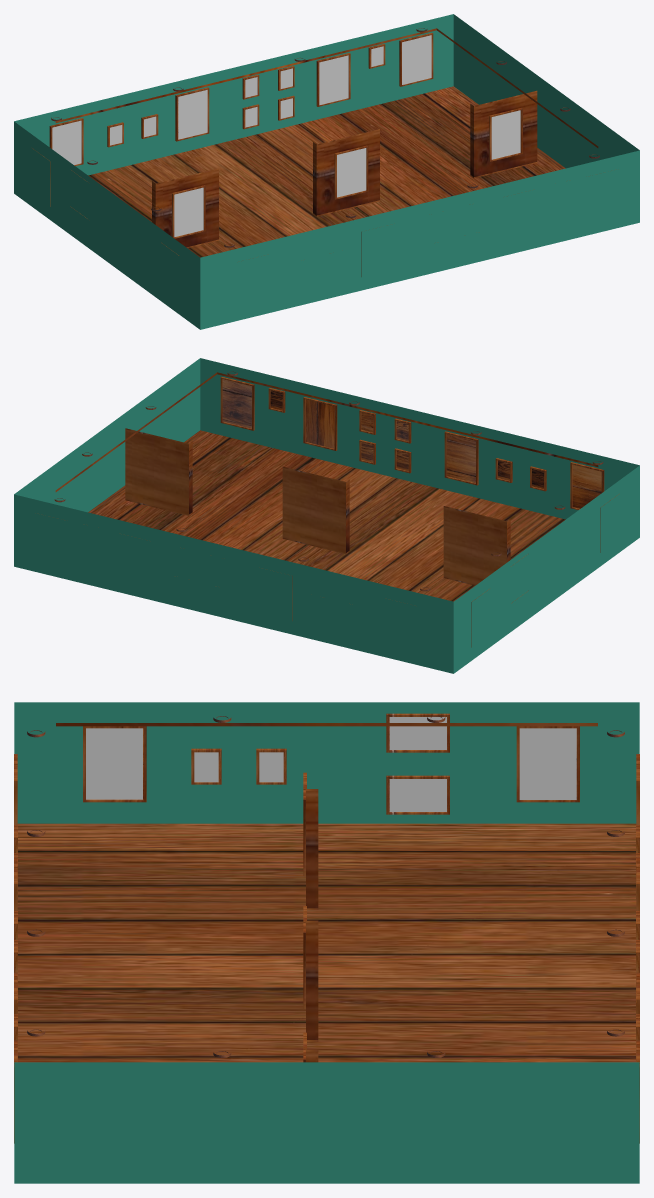
3 views of the same model, one above another, from view 1: azimuth 30°, elevation 25°; view 2: azimuth 150°, elevation 25°; view 3: azimuth 270°, elevation 25° (orthographic). The views are drawn at different scales.
Visible parts, largest first — view 1: Parede, PLANE_003, PLANE_001, PLANE_008, PLANE_031, PLANE_029, PLANE_030, PLANE_011; view 2: Parede; view 3: Parede, PLANE_012, PLANE_017, PLANE_014, PLANE_013, Lights, PLANE_015, PLANE_016.
Part boxes in pixels (bbox=[...]): Parede: bbox=[14, 14, 639, 329]; PLANE_003: bbox=[319, 55, 348, 105]; PLANE_001: bbox=[402, 35, 431, 84]; PLANE_008: bbox=[178, 90, 207, 139]; PLANE_031: bbox=[174, 187, 203, 236]; PLANE_029: bbox=[491, 110, 520, 159]; PLANE_030: bbox=[337, 148, 366, 197]; PLANE_011: bbox=[52, 120, 81, 164]; Parede: bbox=[14, 358, 639, 673]; Parede: bbox=[14, 702, 639, 1183]; PLANE_012: bbox=[519, 728, 576, 799]; PLANE_017: bbox=[86, 728, 142, 799]; PLANE_014: bbox=[389, 779, 446, 811]; PLANE_013: bbox=[389, 717, 446, 749]; Lights: bbox=[27, 716, 624, 1057]; PLANE_015: bbox=[259, 752, 283, 782]; PLANE_016: bbox=[194, 752, 218, 782].
Bounding box in the file's own units: 2764 × 446 × 2029.
3 materials, 2 textured.
